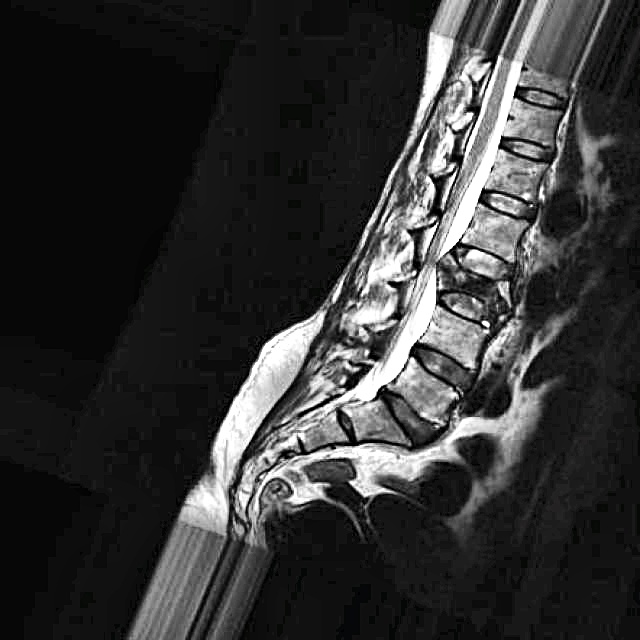Comminuted: (430, 237, 521, 327)
